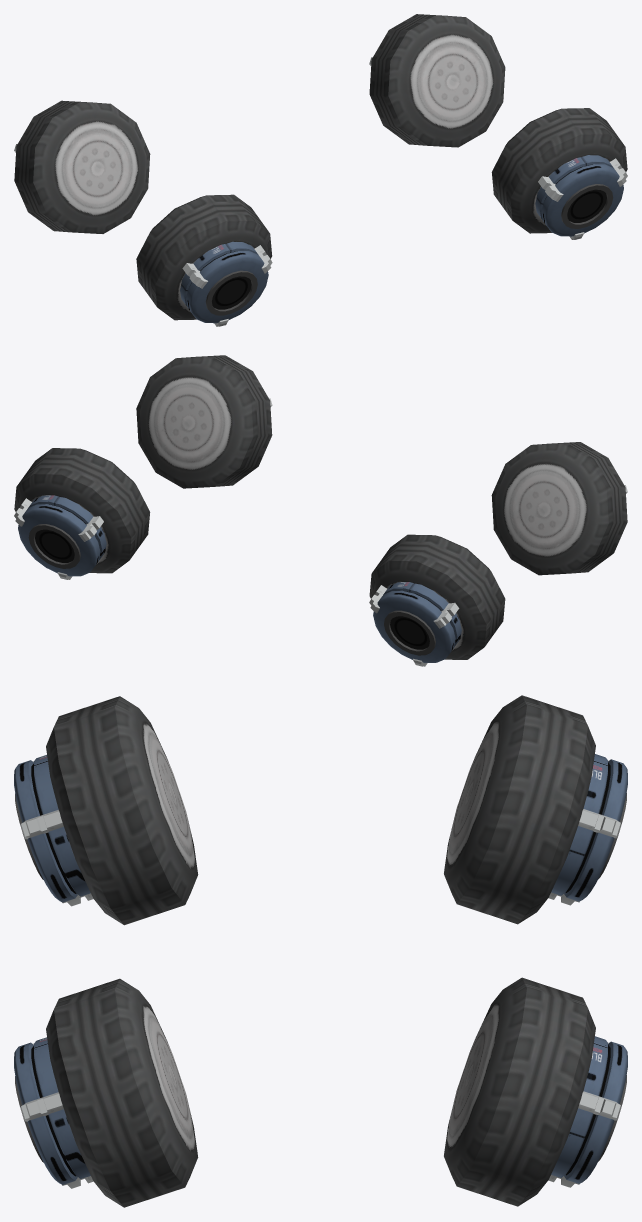
The model's file is Wheels.fbx.
3 views of the same model, one above another, from view 1: azimuth 30°, elevation 25°; view 2: azimuth 150°, elevation 25°; view 3: azimuth 270°, elevation 25° (orthographic). The views are drawn at different scales.
Parts seen in each view (by area): view 1: Pfb_Truck_02_Tyre_1 (×4), Pfb_Soda_WarmKeeper_1, Pfb_Soda_WarmKeeper_3; view 2: Pfb_Truck_02_Tyre_1 (×4), Pfb_Soda_WarmKeeper, Pfb_Soda_WarmKeeper_2; view 3: Pfb_Truck_02_Tyre_1 (×4), Pfb_Soda_WarmKeeper_3, Pfb_Soda_WarmKeeper_1, Pfb_Soda_WarmKeeper, Pfb_Soda_WarmKeeper_2.
Part boxes in pixels (bbox=[...]): Pfb_Truck_02_Tyre_1 (×4): bbox=[14, 14, 627, 320]; Pfb_Soda_WarmKeeper_1: bbox=[535, 155, 627, 239]; Pfb_Soda_WarmKeeper_3: bbox=[180, 241, 272, 326]; Pfb_Truck_02_Tyre_1 (×4): bbox=[14, 355, 627, 659]; Pfb_Soda_WarmKeeper: bbox=[14, 495, 106, 579]; Pfb_Soda_WarmKeeper_2: bbox=[369, 582, 461, 666]; Pfb_Truck_02_Tyre_1 (×4): bbox=[46, 695, 595, 1207]; Pfb_Soda_WarmKeeper_3: bbox=[14, 755, 93, 906]; Pfb_Soda_WarmKeeper_1: bbox=[14, 1037, 93, 1188]; Pfb_Soda_WarmKeeper: bbox=[548, 1036, 627, 1187]; Pfb_Soda_WarmKeeper_2: bbox=[548, 754, 627, 905].
Bounding box in the file's own units: 4.21 × 1.09 × 2.91.
